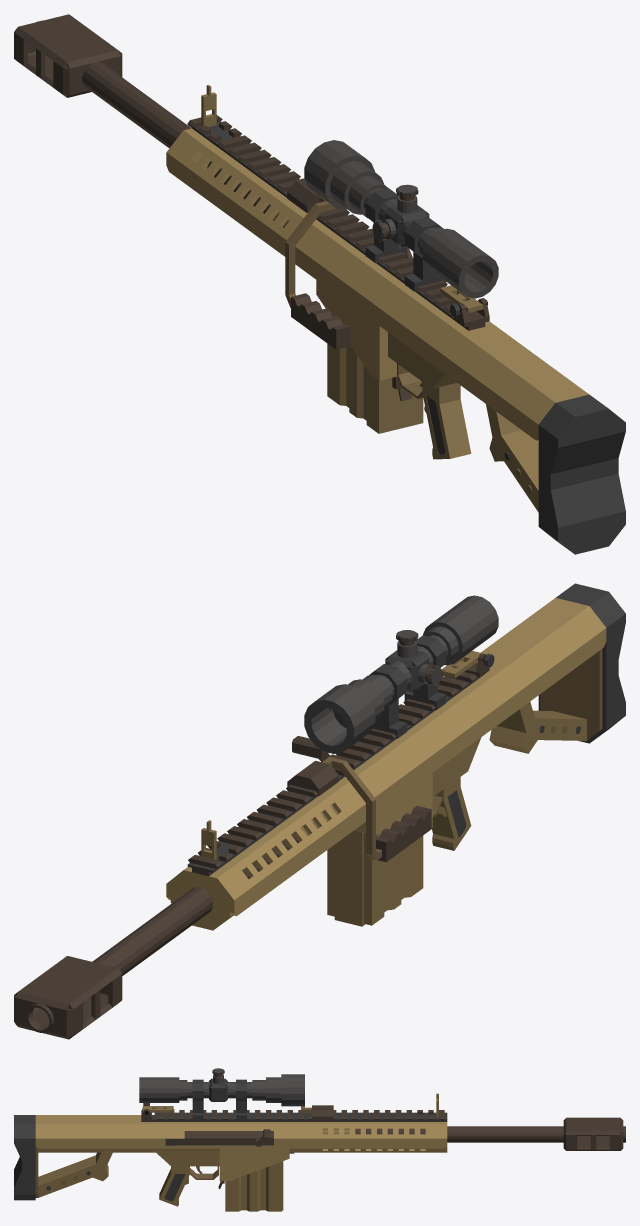
The model's file is wooden_shovel.obj.
3 renders of one model, top to bottom at view 1: azimuth 30°, elevation 25°; view 2: azimuth 150°, elevation 25°; view 3: azimuth 270°, elevation 25°, orthographic. The views are drawn at different scales.
Visible parts, largest first — view 1: cube, hexadecagon; view 2: cube, hexadecagon; view 3: cube, hexadecagon.
Part boxes in pixels (left/top/right/bottom): cube: left=14, top=14, right=625, bottom=554; hexadecagon: left=32, top=20, right=498, bottom=298; cube: left=14, top=583, right=625, bottom=1039; hexadecagon: left=26, top=595, right=498, bottom=1032; cube: left=14, top=1078, right=623, bottom=1211; hexadecagon: left=139, top=1068, right=625, bottom=1142.
Size of the model in its own units: 0.2124 by 0.4336 by 1.77.
Materials: 1 (1 with a texture image).
